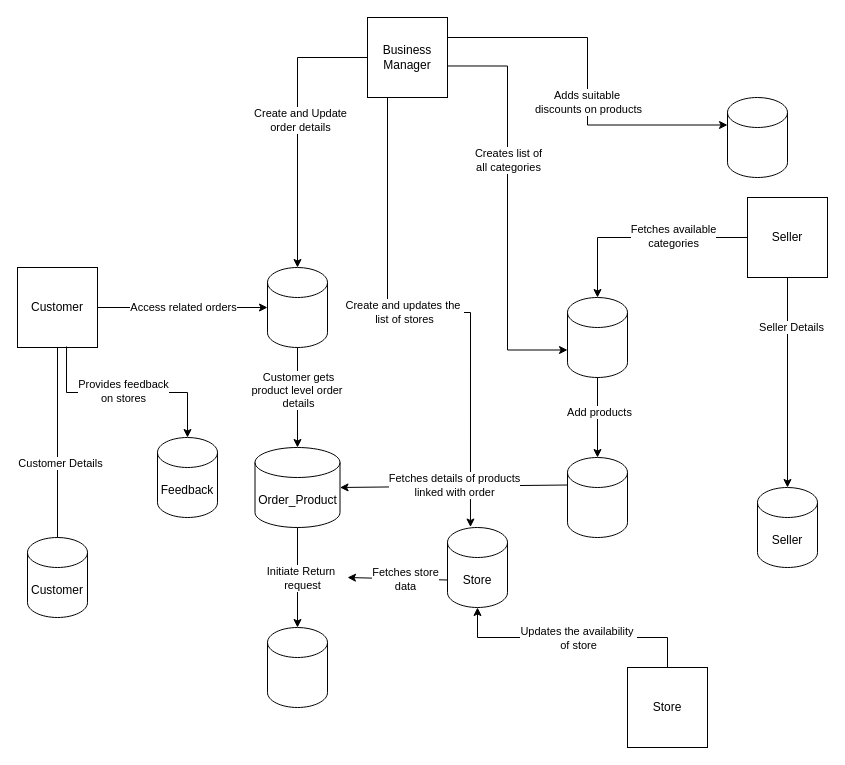
The diagram is 845 pixels wide and 765 high, and some of its shapes have lost their labels. The centre of each missing label's shape, as x and y in pixels:
Category: the point at 597,337
Customer _Order: the point at 297,307
Discount: the point at 757,137
Product: the point at 597,497
Return: the point at 297,667
